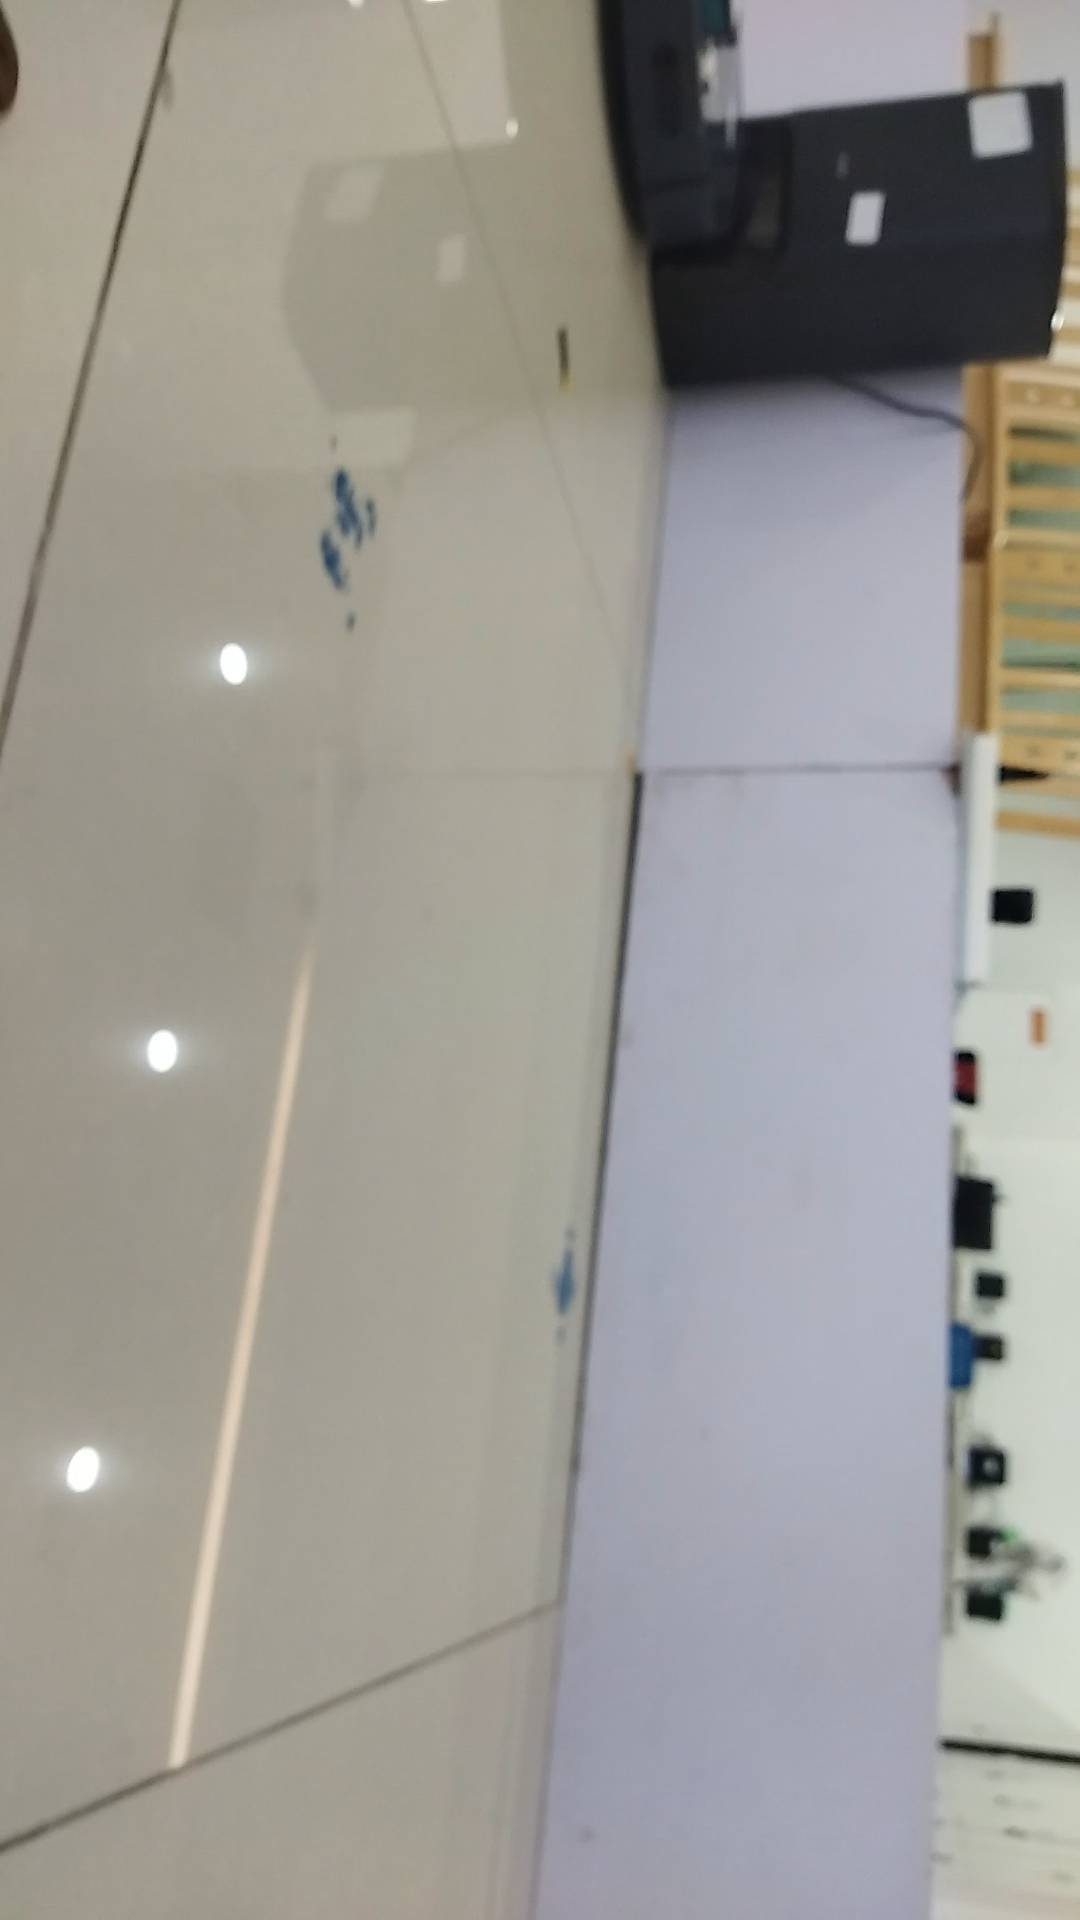dust collecting barrel: (647, 80, 1068, 389)
